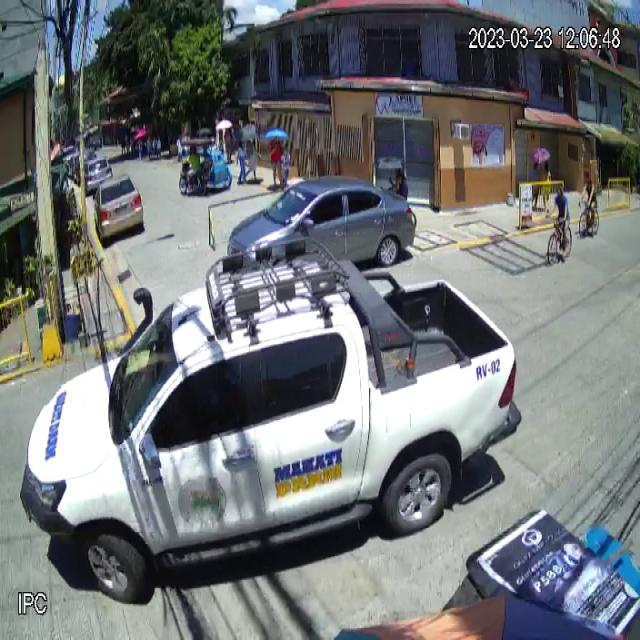Car: (18, 246, 524, 604), (227, 173, 418, 274), (94, 171, 144, 242)
